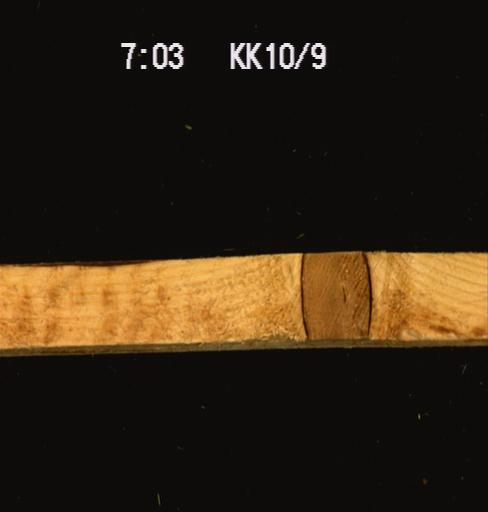edge_knot: (296, 248, 373, 345)
